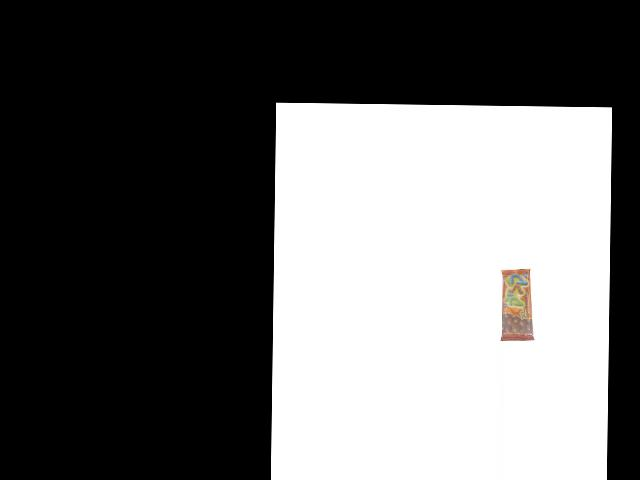chocolate: (500, 268, 533, 341)
